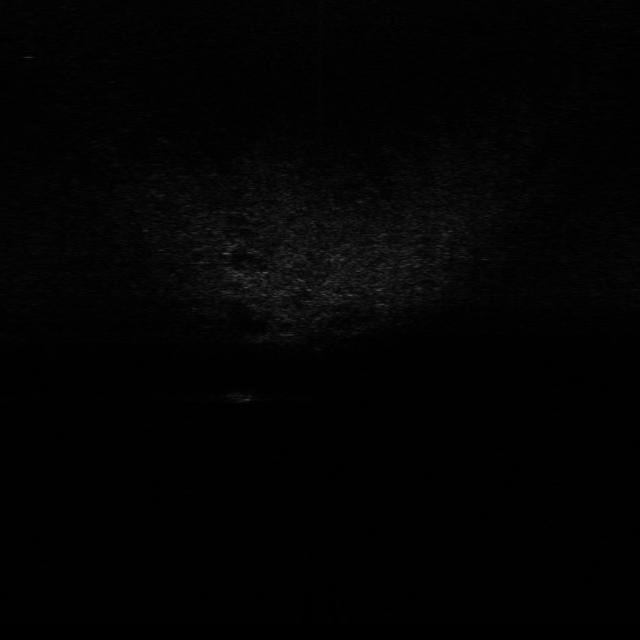cube: (226, 386, 266, 406)
